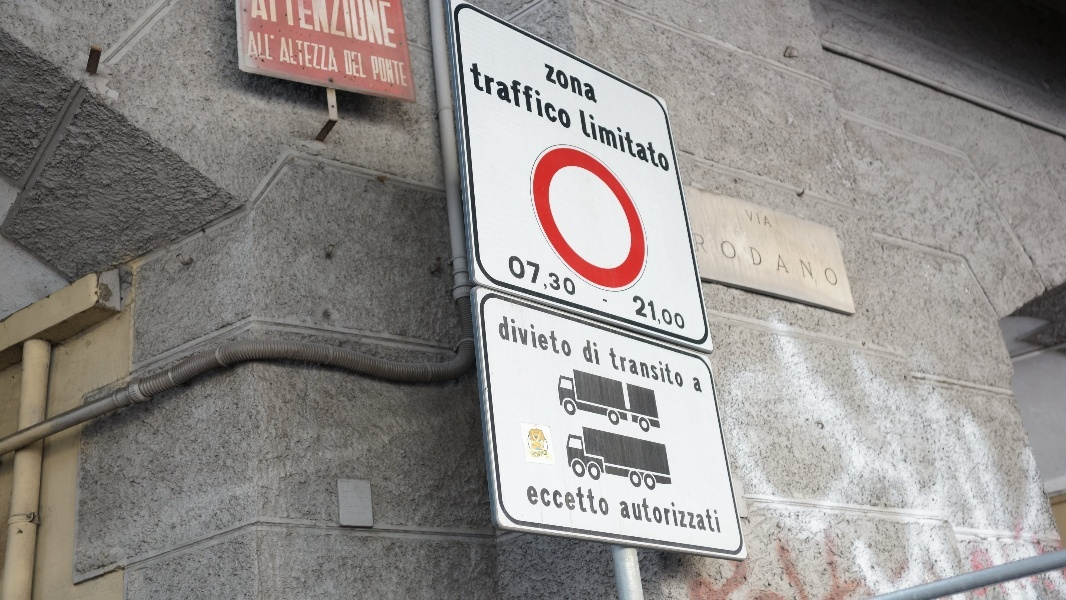text: (481, 61, 496, 131), (497, 61, 512, 131), (513, 61, 528, 131), (529, 61, 544, 131), (545, 61, 560, 131), (593, 108, 608, 173), (609, 108, 624, 173), (625, 108, 640, 173), (641, 108, 656, 173), (579, 108, 592, 173), (657, 108, 670, 173), (561, 61, 572, 131), (257, 1, 272, 52), (273, 1, 288, 52), (289, 1, 304, 52), (305, 1, 320, 52), (321, 1, 336, 52), (337, 1, 352, 52), (353, 1, 368, 52), (369, 1, 384, 52), (561, 251, 577, 298), (385, 1, 399, 52), (513, 251, 528, 298), (529, 251, 544, 298), (545, 251, 560, 298), (470, 61, 480, 131), (545, 61, 560, 106), (561, 61, 576, 106), (577, 61, 592, 106), (513, 315, 528, 358), (529, 315, 544, 358), (545, 315, 560, 358), (609, 346, 624, 389), (625, 346, 640, 389), (641, 346, 656, 389), (657, 346, 672, 389), (625, 495, 640, 535), (641, 495, 656, 535), (657, 495, 672, 535), (673, 495, 688, 535), (689, 495, 704, 535), (705, 495, 720, 535), (641, 292, 656, 331), (657, 292, 672, 331), (673, 292, 687, 331), (289, 37, 304, 73), (305, 37, 320, 73), (321, 37, 336, 73), (500, 315, 512, 358), (385, 55, 400, 87), (529, 485, 544, 517), (545, 485, 560, 517), (561, 485, 576, 517), (577, 485, 592, 517), (593, 485, 608, 517), (673, 346, 684, 389), (257, 30, 272, 61), (353, 49, 368, 79), (370, 55, 384, 87), (561, 315, 571, 358), (250, 1, 256, 52), (721, 240, 736, 259), (801, 260, 815, 280), (633, 292, 640, 331), (343, 49, 352, 79), (593, 61, 599, 106), (753, 210, 768, 228), (281, 37, 288, 73), (248, 30, 256, 61), (583, 339, 592, 366), (618, 495, 624, 535), (693, 233, 704, 254), (401, 55, 408, 87), (593, 339, 601, 366), (691, 377, 704, 393), (753, 247, 763, 265), (744, 210, 752, 228), (824, 268, 832, 286), (509, 251, 512, 298), (785, 253, 791, 275), (779, 253, 784, 275), (337, 37, 340, 73), (833, 268, 839, 286), (532, 451, 544, 458), (721, 495, 723, 535), (769, 210, 773, 228), (609, 485, 611, 517), (705, 233, 708, 254), (273, 30, 275, 61), (602, 298, 608, 304), (750, 247, 752, 265), (527, 485, 528, 517), (545, 451, 548, 458), (799, 260, 800, 280), (737, 240, 738, 259)
